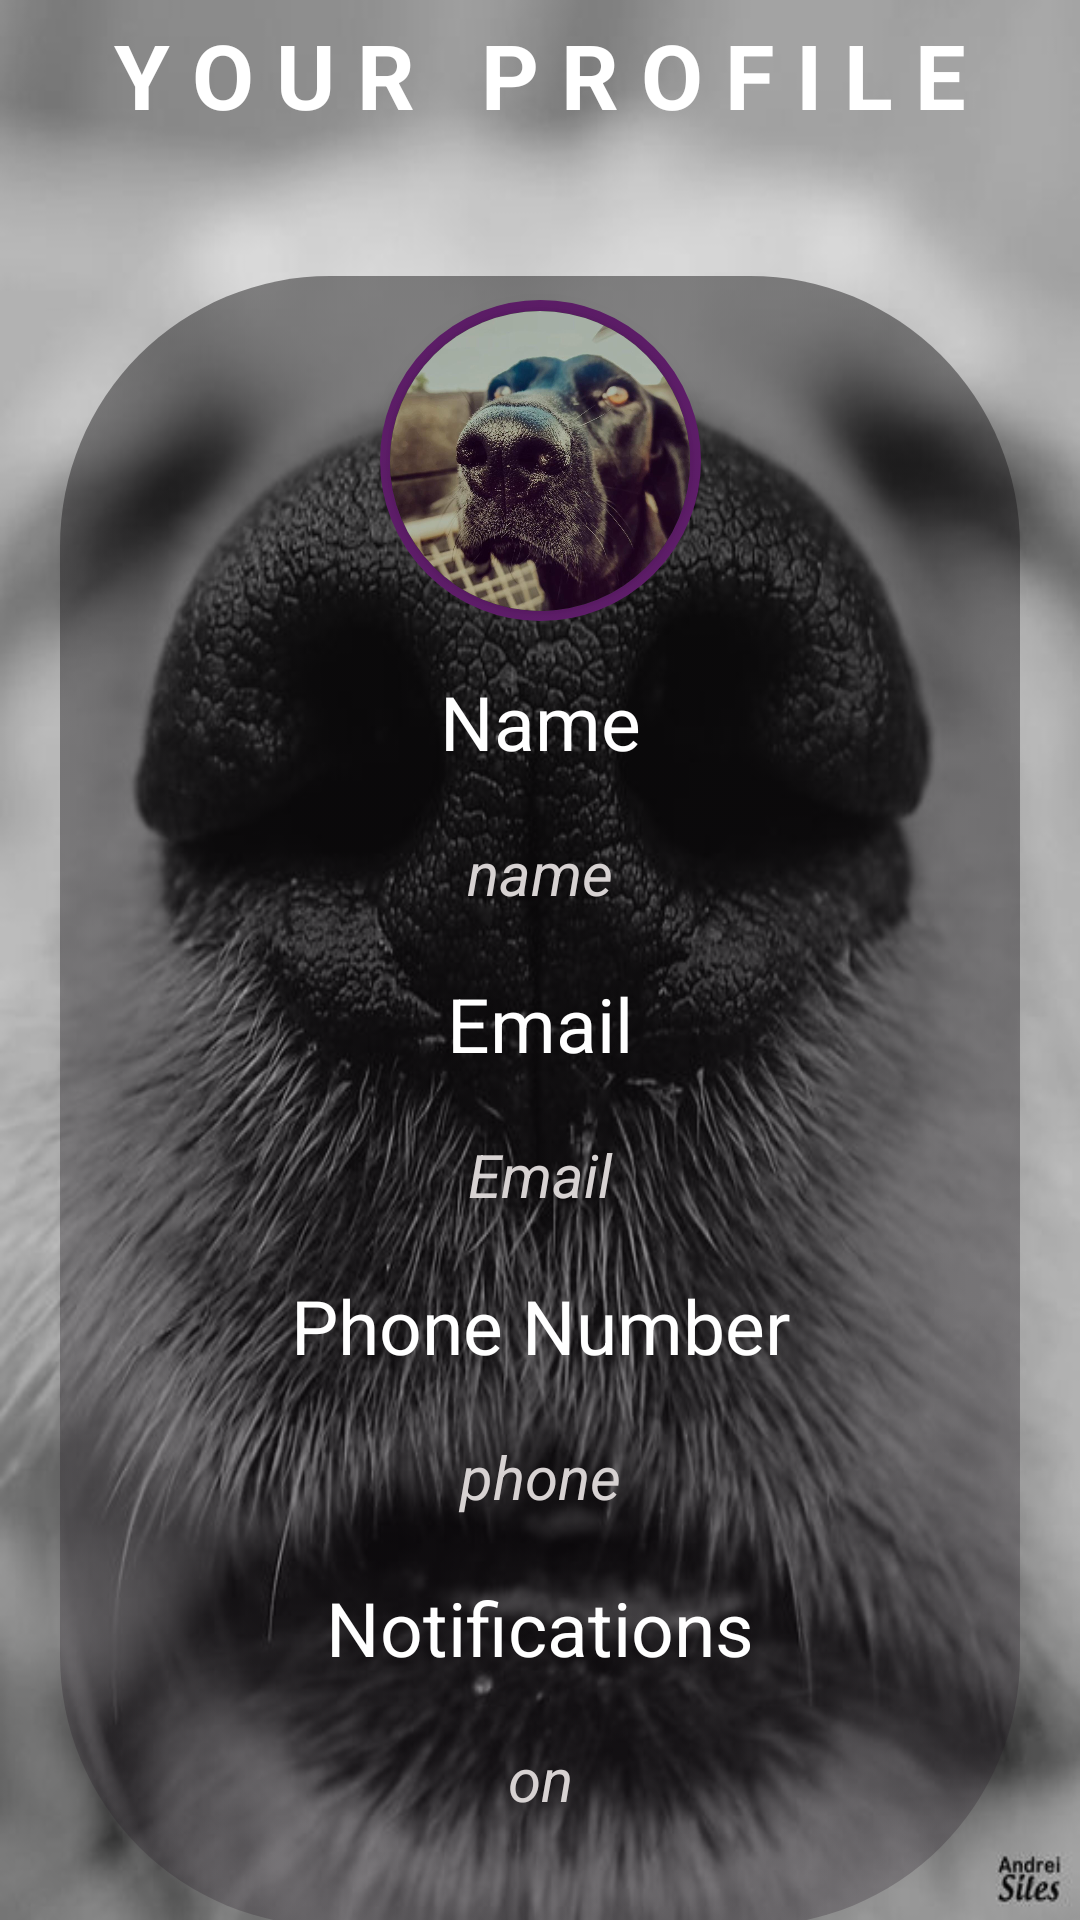

Point at icon controls on the screen. Image size 1080px x 1920px, points as (x=x, y=y).
doggo: (x=540, y=461)
